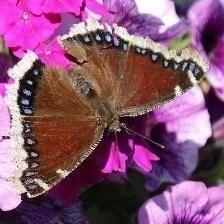butterfly: (6, 19, 209, 198)
